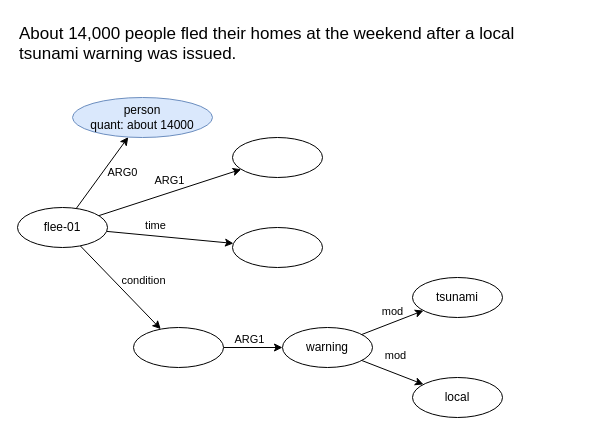
Some shapes in this 595 by 435 pixel diagram are drawn without their labels. The centre of each missing label's shape, as x and y in pixels:
"home poss:p" goes at [277,157].
"issue-01" goes at [178,347].
"weekend" goes at [277,247].
